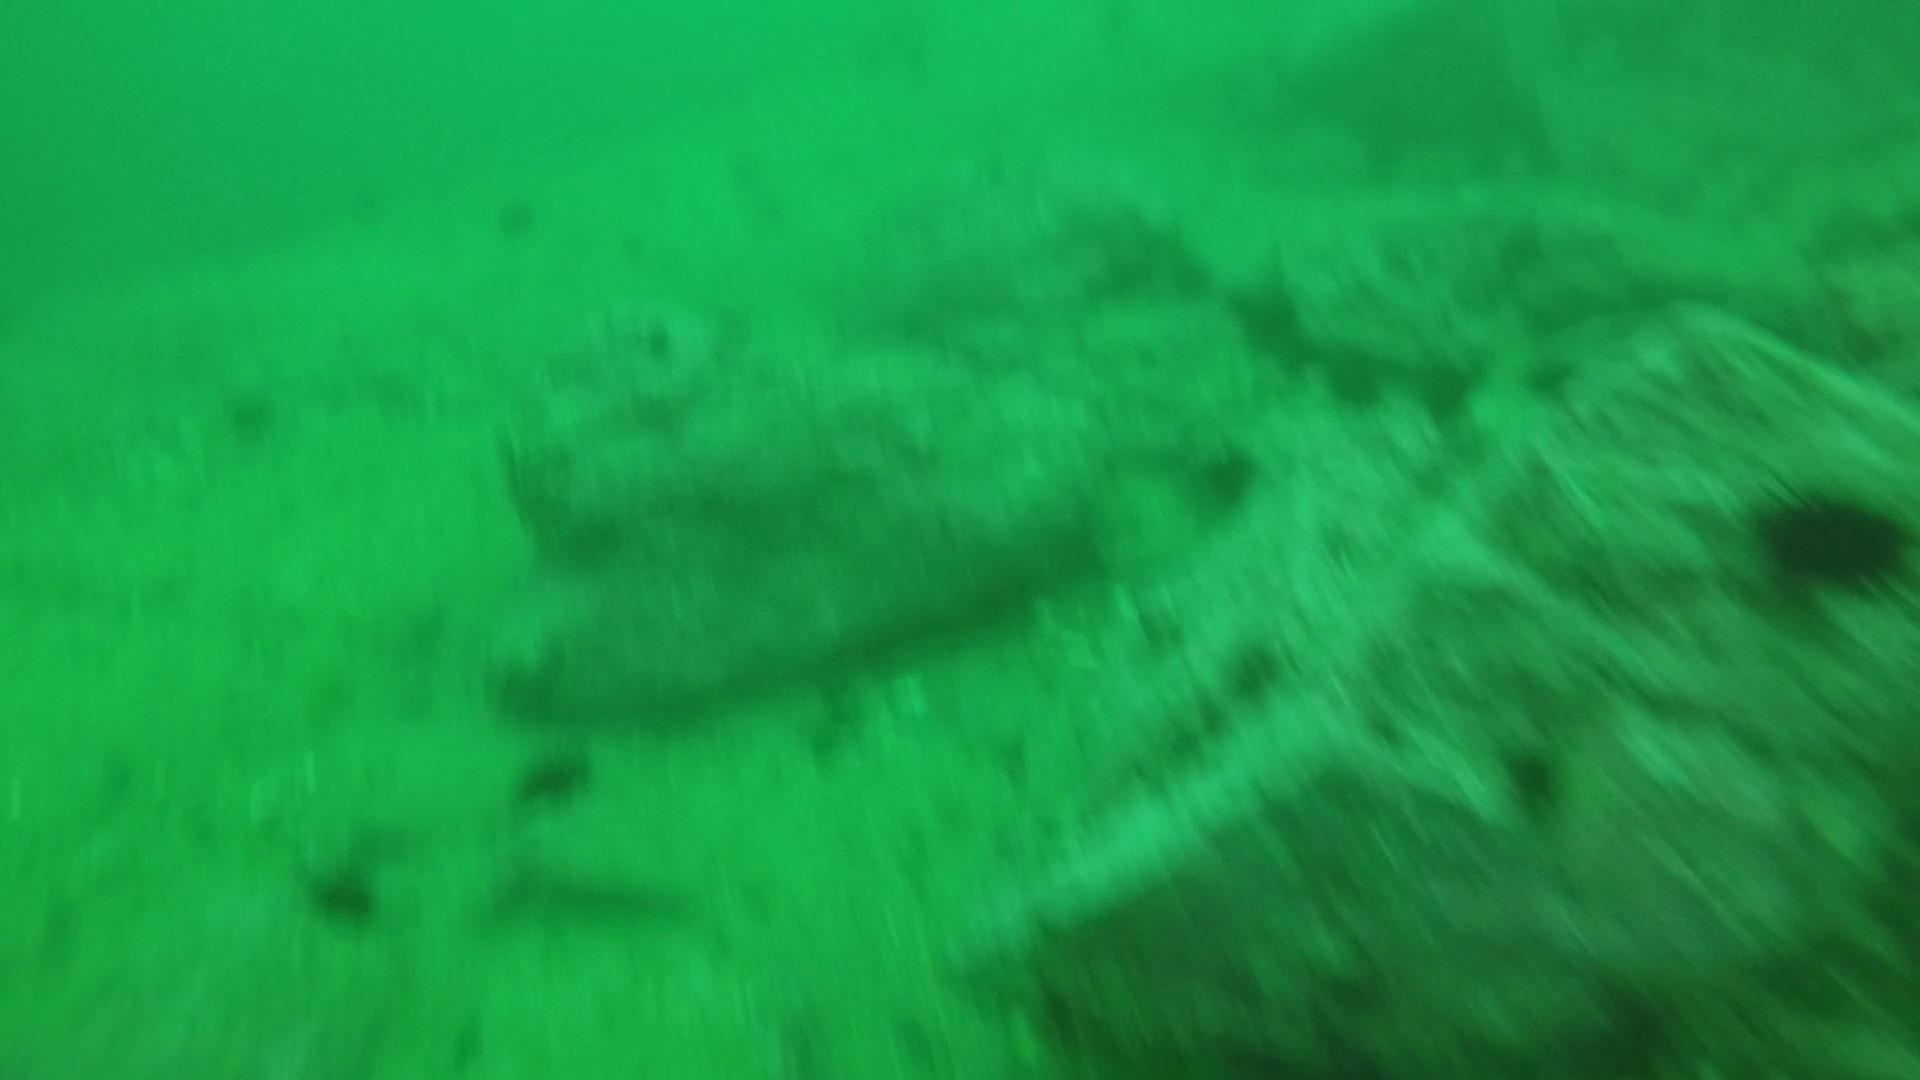echinus: (1749, 476, 1913, 600), (1179, 436, 1269, 522), (483, 650, 570, 731), (301, 853, 386, 932), (1493, 738, 1575, 820), (510, 741, 599, 815), (1317, 342, 1393, 415), (215, 380, 285, 448), (487, 189, 545, 243)
